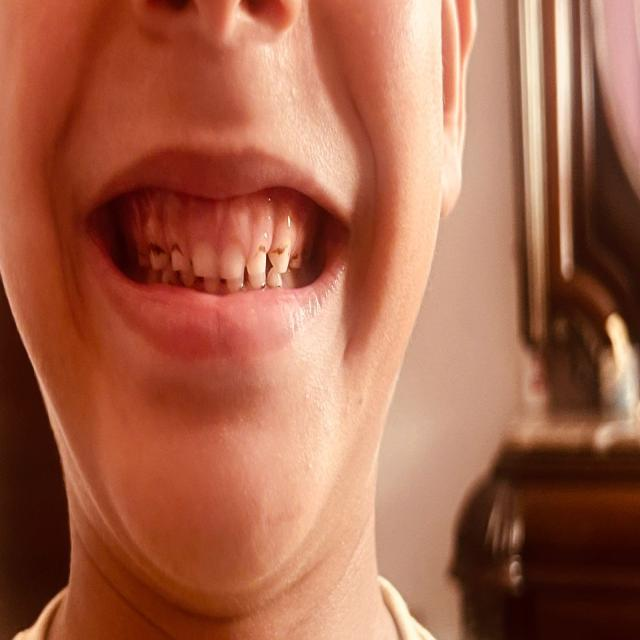tooth: (192, 240, 220, 278), (223, 235, 246, 278), (148, 230, 170, 273), (170, 238, 190, 278), (272, 231, 292, 269), (246, 240, 267, 272)
